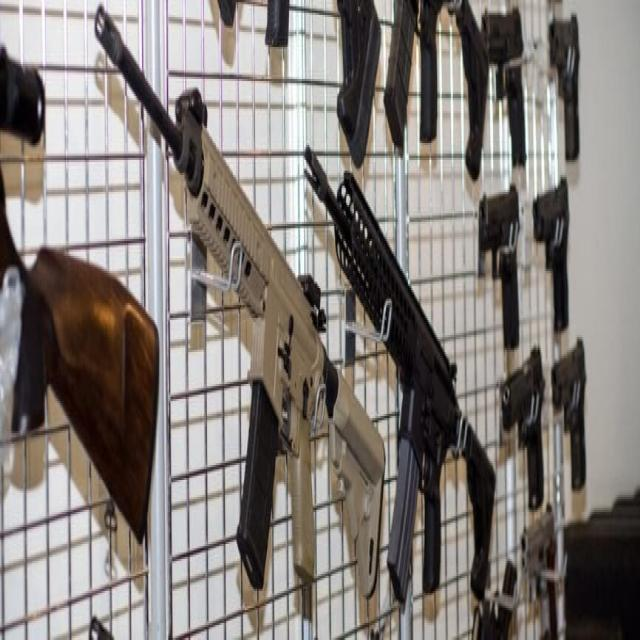HandGun: (500, 348, 544, 512), (483, 11, 527, 166), (479, 188, 519, 352), (534, 177, 570, 335), (551, 339, 586, 491), (521, 503, 558, 640), (549, 13, 580, 164)
Rifle: (92, 6, 386, 599), (304, 145, 497, 606)
